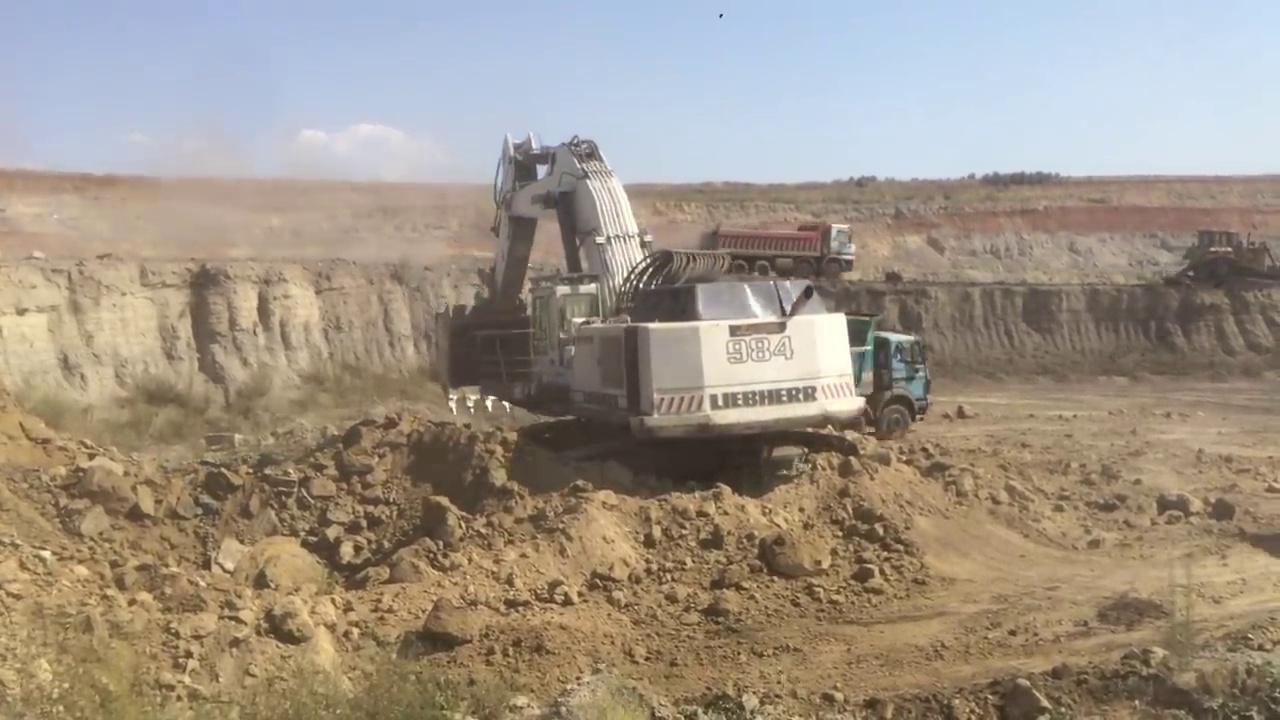excavator: (438, 132, 869, 470)
truck: (754, 313, 931, 441), (699, 221, 857, 276)
